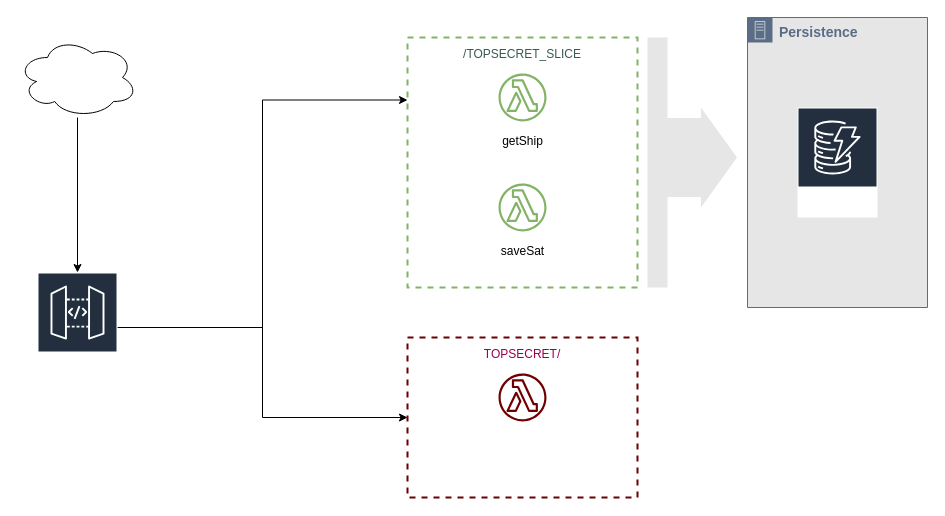
The diagram is 945 pixels wide and 516 high, and some of its shapes have lost their labels. Here are the shapes that lost their labels. From the top down, the centre of each, then its label:
At point 837,162: "Amazon DynamoDB".
At point 77,327: "Amazon API Gateway".
At point 522,397: "topsecret".
